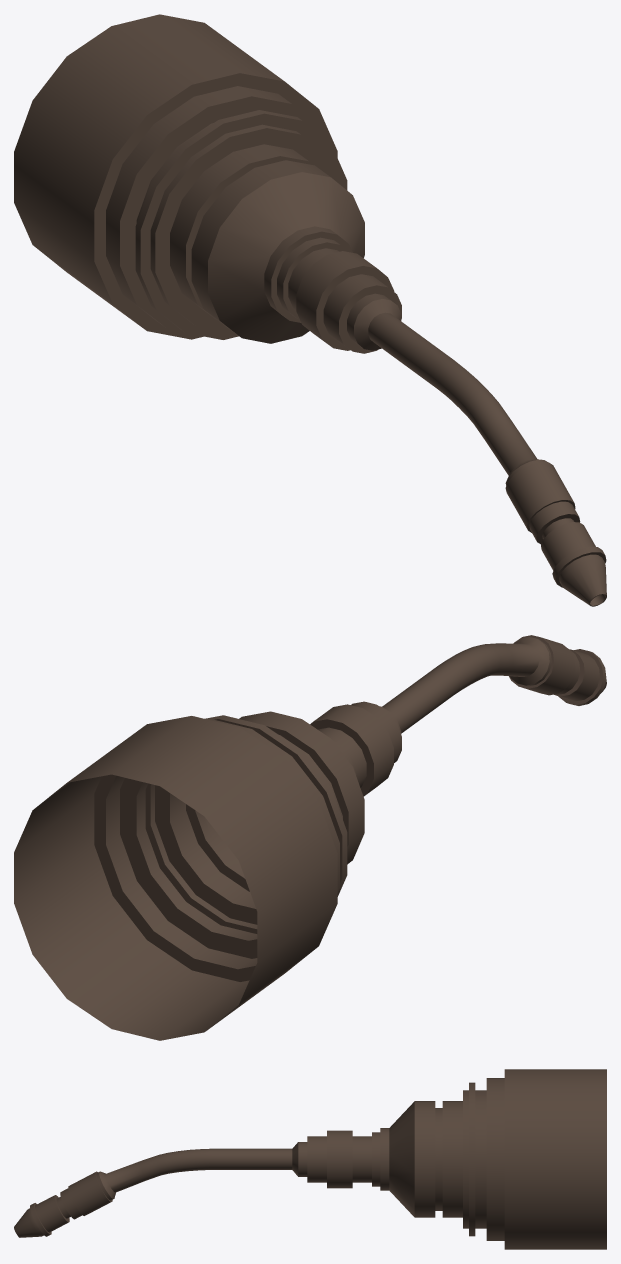
The model's file is tool_nozzle_v1.glb.
The picture shows the model from 3 angles, top to bottom: view 1: azimuth 30°, elevation 25°; view 2: azimuth 150°, elevation 25°; view 3: azimuth 270°, elevation 25°; orthographic projection. The views are drawn at different scales.
Parts seen in each view (by area): view 1: Tool_Nozzle; view 2: Tool_Nozzle; view 3: Tool_Nozzle.
Boxes of the visible parts, <box> form: Tool_Nozzle: <box>14,14,606,606</box>; Tool_Nozzle: <box>14,635,606,1040</box>; Tool_Nozzle: <box>14,1069,606,1249</box>.
Size of the model in its own units: 0.087 by 0.087 by 0.2878.
Materials: 1 (1 with a texture image).
